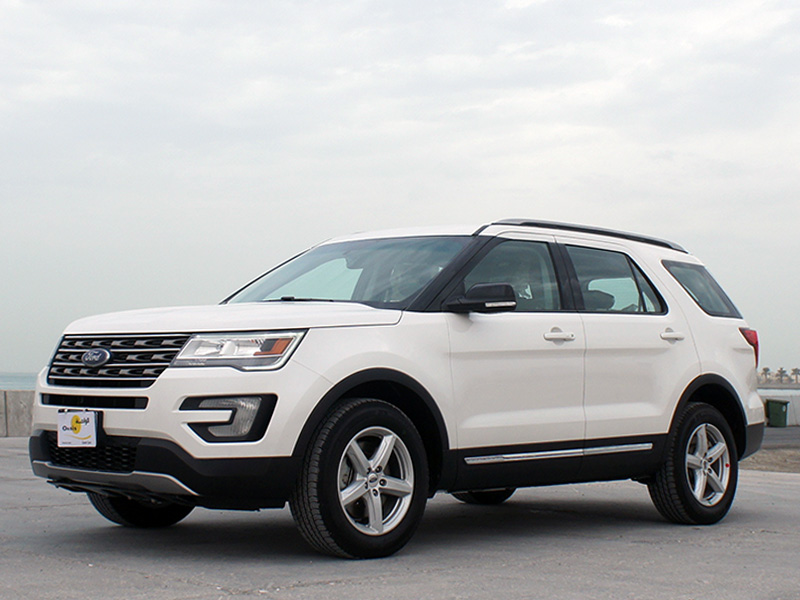other: (15, 220, 755, 549)
